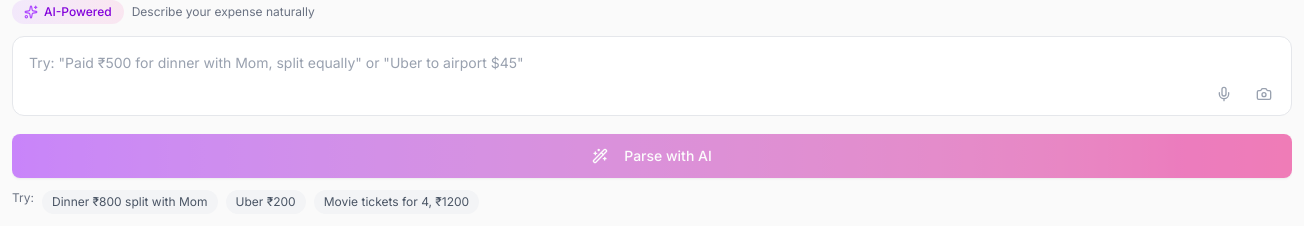
Test case: AIExpenseInput › shows rate limit toast when 429 response
The width and height of the screenshot is (1304, 226).
Type "Dinner 500" into the text box with placeholder "Try: \"Paid".
click(652, 76); type("Dinner 500")  # box [12,36,1292,116]
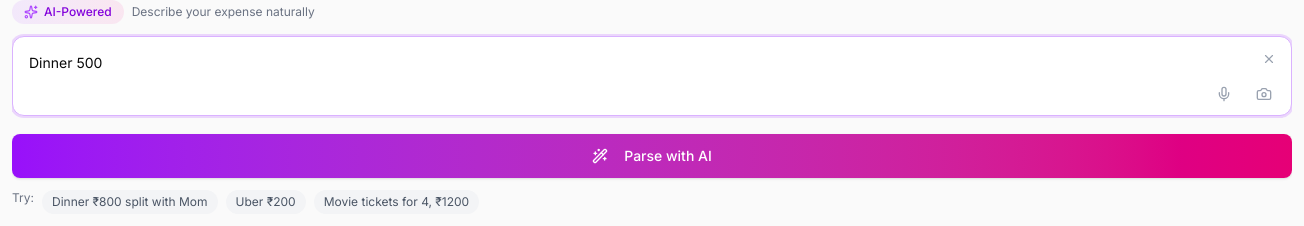
Click the button "Parse with AI".
click(652, 156)  # box [12,134,1292,178]
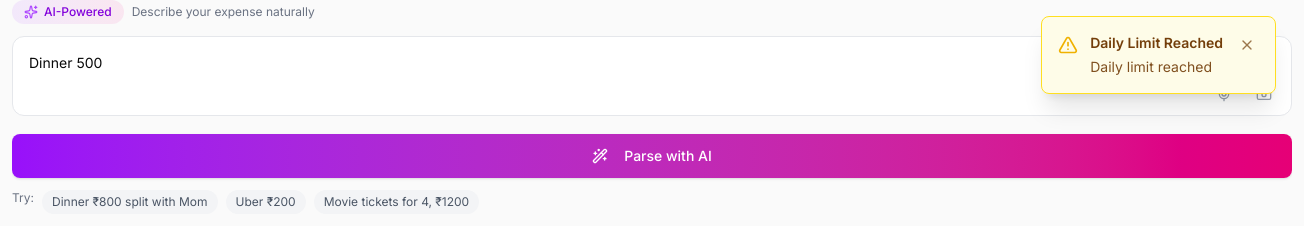
Now the text "Daily Limit Reached" is shown, box [1090,33,1223,53]
